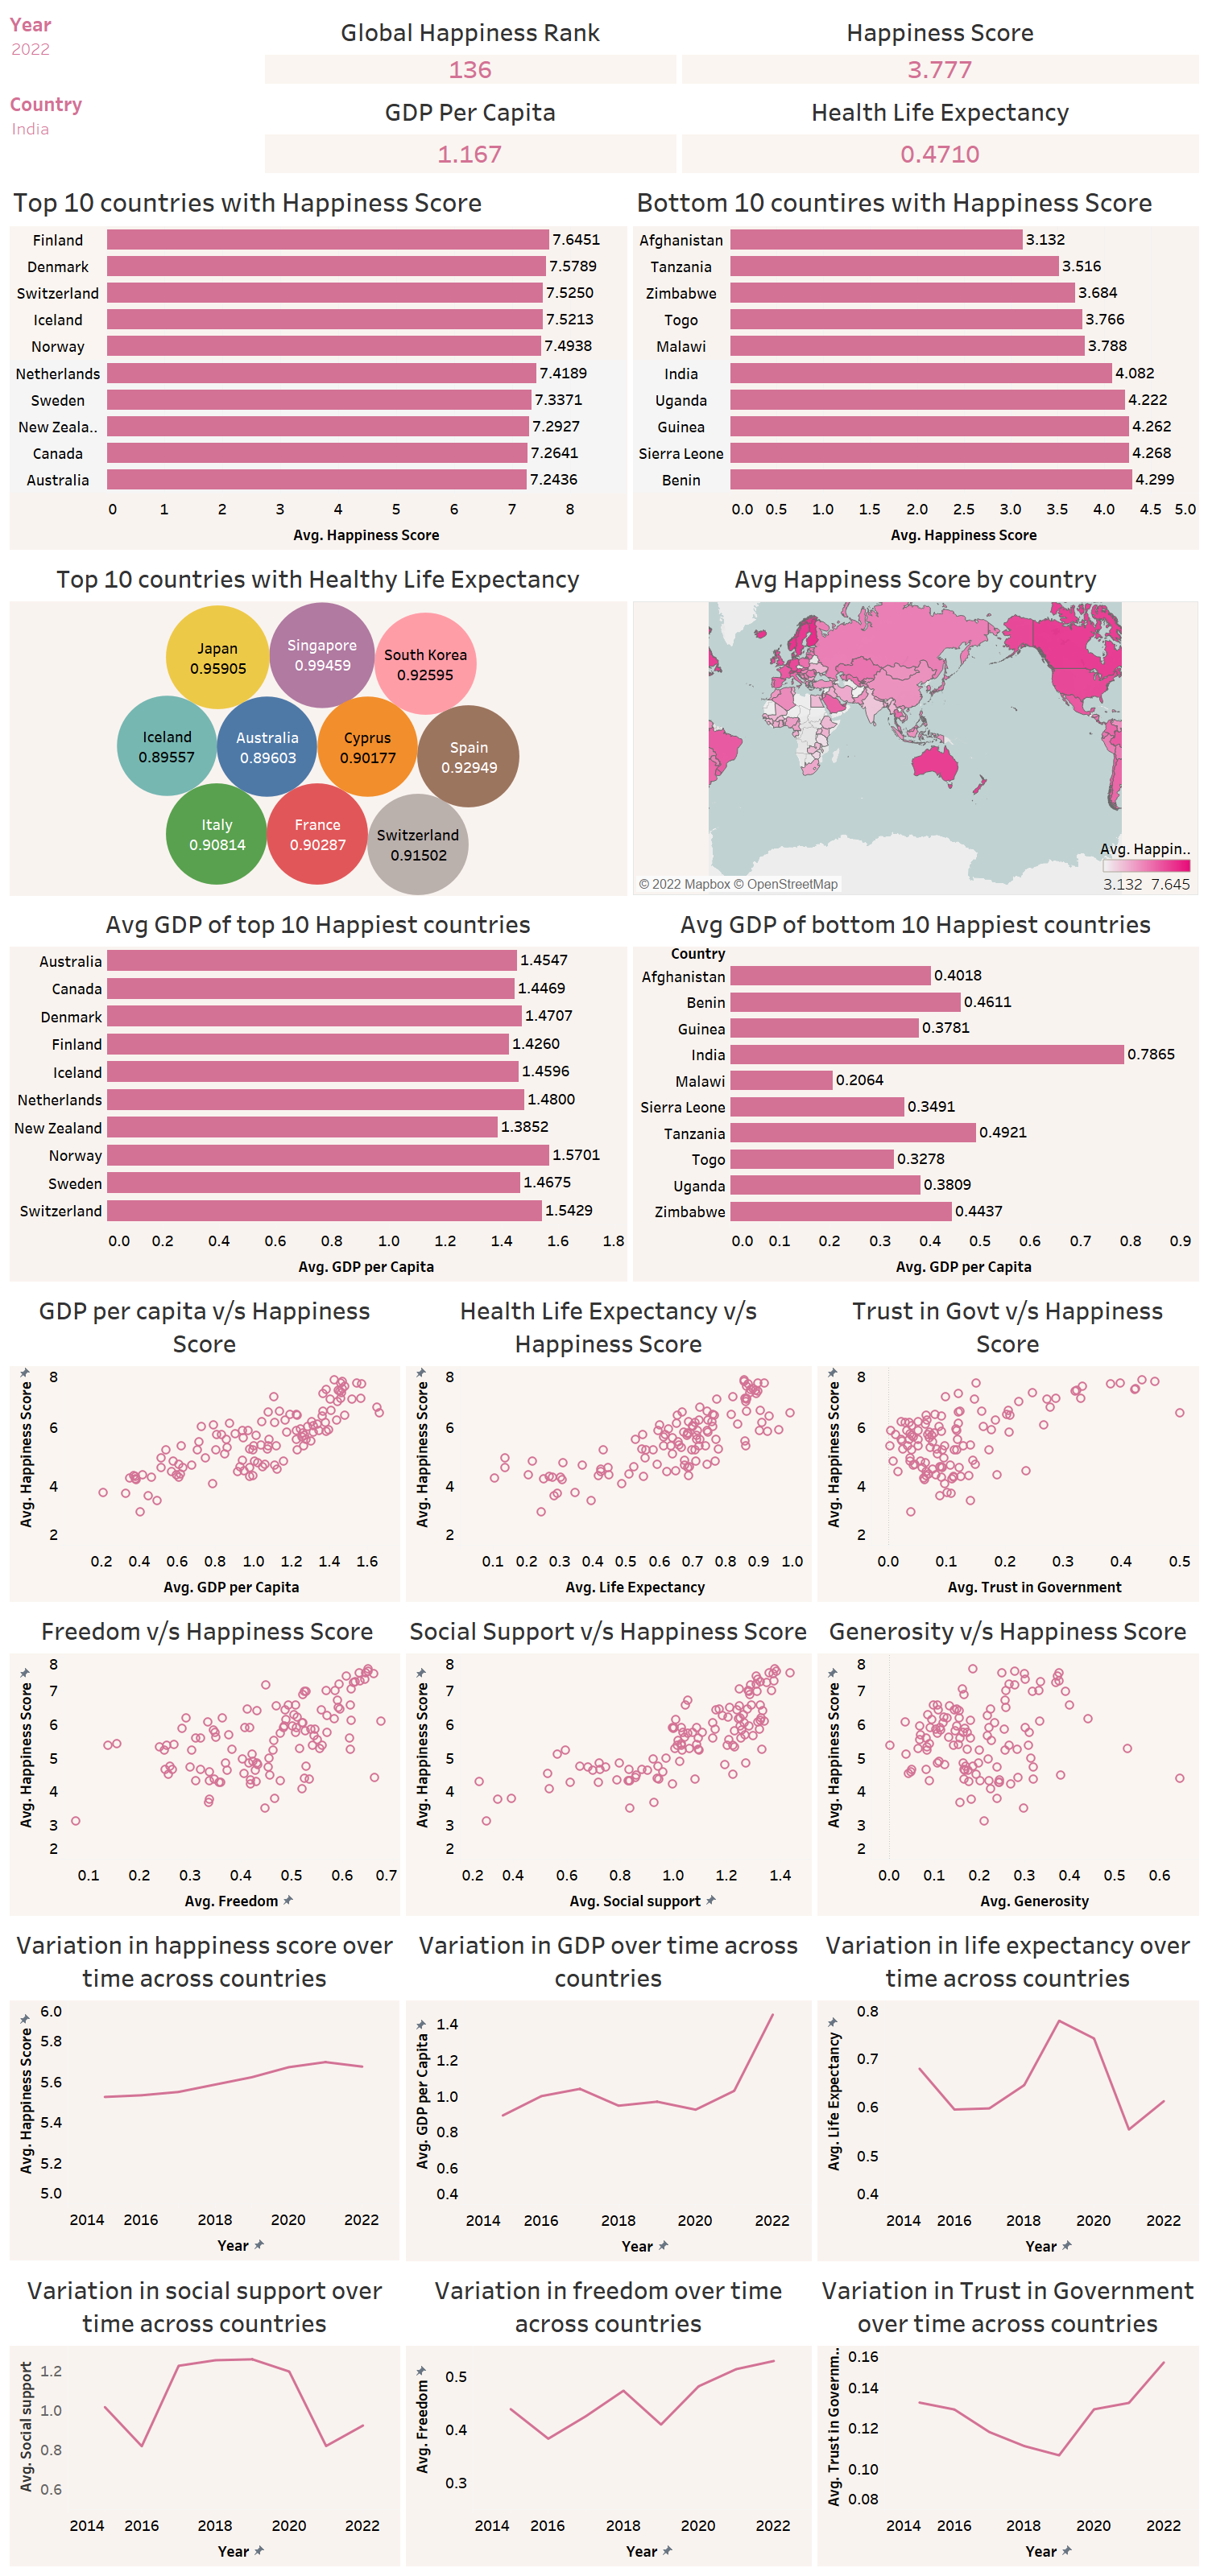

This screenshot's page, from the dashboard's own definition file:
{"tool":"tableau","page":{"name":"Dashboard 1","canvas":[1500,3200],"ordinal":0},"visuals":[{"type":"filter","title":"Happiness Rank","param":"[federated.0owi9qo0g4x1mr10l4cb80ngs44v].[none:year:ok]","box":[8,8,317,99]},{"type":"worksheet","title":"Happiness Rank","mark":"Automatic","box":[325,8,518,98.8]},{"type":"worksheet","title":"Happiness Score","mark":"Automatic","box":[843,8,649,98.8]},{"type":"worksheet","title":"GDP Per Capita","mark":"Automatic","box":[325,106.8,518,111.2]},{"type":"worksheet","title":"Health Life Expectancy","mark":"Automatic","box":[843,106.8,649,111.2]},{"type":"filter","title":"Happiness Rank","param":"[federated.0owi9qo0g4x1mr10l4cb80ngs44v].[none:Country:nk]","box":[8,107,317,78]},{"type":"worksheet","title":"Top 10 with Happiness Score","mark":"Automatic","rows":["Country"],"cols":["Happiness_Score"],"box":[8,218,774,469]},{"type":"worksheet","title":"Bottom 10 with Happiness Score","mark":"Automatic","rows":["Country"],"cols":["Happiness_Score"],"box":[782,218,710,469]},{"type":"worksheet","title":"Top 10 countries with Healthy Life Expectancy","mark":"Circle","box":[8,687,774,429]},{"type":"worksheet","title":"Avg Happiness Score by country","mark":"Multipolygon","box":[782,687,710,429]},{"type":"legend","title":"Avg Happiness Score by country","param":"[federated.0owi9qo0g4x1mr10l4cb80ngs44v].[avg:Happiness_Score:qk]","box":[1366,1037,117,71]},{"type":"worksheet","title":"Avg GDP of top 10 Happiest countries","mark":"Automatic","rows":["Country"],"cols":["GDP_per_Capita"],"box":[8,1116,774,480]},{"type":"worksheet","title":"Avg GDP of bottom 10 Happiest countries","mark":"Automatic","rows":["Country"],"cols":["GDP_per_Capita"],"box":[782,1116,710,480]},{"type":"worksheet","title":"GDP per capita v/s Happiness Score","mark":"Automatic","rows":["Happiness_Score"],"cols":["GDP_per_Capita"],"box":[8,1596,492,398]},{"type":"worksheet","title":"Health Life Expectancy v/s Happiness Score","mark":"Automatic","rows":["Happiness_Score"],"cols":["Life_Expectancy"],"box":[500,1596,511,398]},{"type":"worksheet","title":"Trust in Govt v/s Happiness Score","mark":"Automatic","rows":["Happiness_Score"],"cols":["Trust_in_Government"],"box":[1011,1596,481,398]},{"type":"worksheet","title":"Freedom v/s Happiness Score ","mark":"Automatic","rows":["Happiness_Score"],"cols":["Freedom"],"box":[8,1994,492,390]},{"type":"worksheet","title":"Social Support v/s Happiness Score","mark":"Automatic","rows":["Happiness_Score"],"cols":["Social_support"],"box":[500,1994,511,390]},{"type":"worksheet","title":"Generosity v/s Happiness Score","mark":"Automatic","rows":["Happiness_Score"],"cols":["Generosity"],"box":[1011,1994,481,390]},{"type":"worksheet","title":"Variation in happiness score over time across countries","mark":"Automatic","rows":["Happiness_Score"],"cols":["year"],"box":[8,2384,492.4,429]},{"type":"worksheet","title":"Variation in GDP over time across countries","mark":"Automatic","rows":["GDP_per_Capita"],"cols":["year"],"box":[500.4,2384,510.7,429]},{"type":"worksheet","title":"Variation in life expectancy over time across countries","mark":"Automatic","rows":["Life_Expectancy"],"cols":["year"],"box":[1011.1,2384,480.9,429]},{"type":"worksheet","title":"Variation in social support over time across countries","mark":"Automatic","rows":["Social_support"],"cols":["year"],"box":[8,2813,492.4,379]},{"type":"worksheet","title":"Variation in freedom over time across countries ","mark":"Automatic","rows":["Freedom"],"cols":["year"],"box":[500.4,2813,510.7,379]},{"type":"worksheet","title":"Variation in trust in govt over time across countries","mark":"Automatic","rows":["Trust_in_Government"],"cols":["year"],"box":[1011.1,2813,480.9,379]}]}

Visuals, with their boxes in screenshot pixels (x1, y1, x2, y2), scaled from the page's 1500x3200 canvas onto the 1208x2576 screenshot:
"Happiness Rank" filter: 6:6:262:86
"Happiness Rank" worksheet: 262:6:679:86
"Happiness Score" worksheet: 679:6:1202:86
"GDP Per Capita" worksheet: 262:86:679:175
"Health Life Expectancy" worksheet: 679:86:1202:175
"Happiness Rank" filter: 6:86:262:149
"Top 10 with Happiness Score" worksheet: 6:175:630:553
"Bottom 10 with Happiness Score" worksheet: 630:175:1202:553
"Top 10 countries with Healthy Life Expectancy" worksheet (Circle marks): 6:553:630:898
"Avg Happiness Score by country" worksheet (Multipolygon marks): 630:553:1202:898
"Avg Happiness Score by country" legend: 1100:835:1194:892
"Avg GDP of top 10 Happiest countries" worksheet: 6:898:630:1285
"Avg GDP of bottom 10 Happiest countries" worksheet: 630:898:1202:1285
"GDP per capita v/s Happiness Score" worksheet: 6:1285:403:1605
"Health Life Expectancy v/s Happiness Score" worksheet: 403:1285:814:1605
"Trust in Govt v/s Happiness Score" worksheet: 814:1285:1202:1605
"Freedom v/s Happiness Score " worksheet: 6:1605:403:1919
"Social Support v/s Happiness Score" worksheet: 403:1605:814:1919
"Generosity v/s Happiness Score" worksheet: 814:1605:1202:1919
"Variation in happiness score over time across countries" worksheet: 6:1919:403:2264
"Variation in GDP over time across countries" worksheet: 403:1919:814:2264
"Variation in life expectancy over time across countries" worksheet: 814:1919:1202:2264
"Variation in social support over time across countries" worksheet: 6:2264:403:2570
"Variation in freedom over time across countries " worksheet: 403:2264:814:2570
"Variation in trust in govt over time across countries" worksheet: 814:2264:1202:2570
